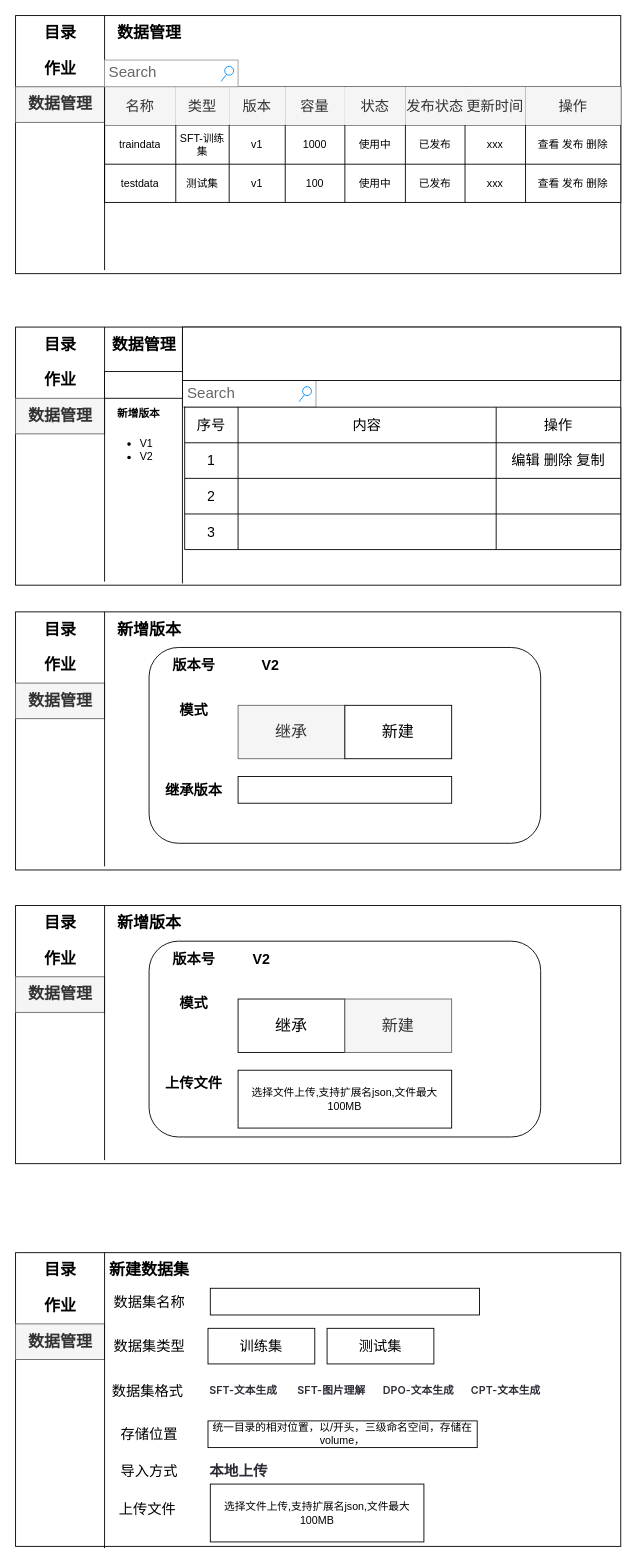
The diagram is 636 pixels wide and 1565 high, and some of its shapes have lost their labels. Each missing label, with the box of its shape:
数据版本: (104, 371, 182, 398)
数据集详区域，标签，所有者，状态，时间等属性: (182, 326, 621, 380)
选择继承的版本: (237, 776, 452, 803)
